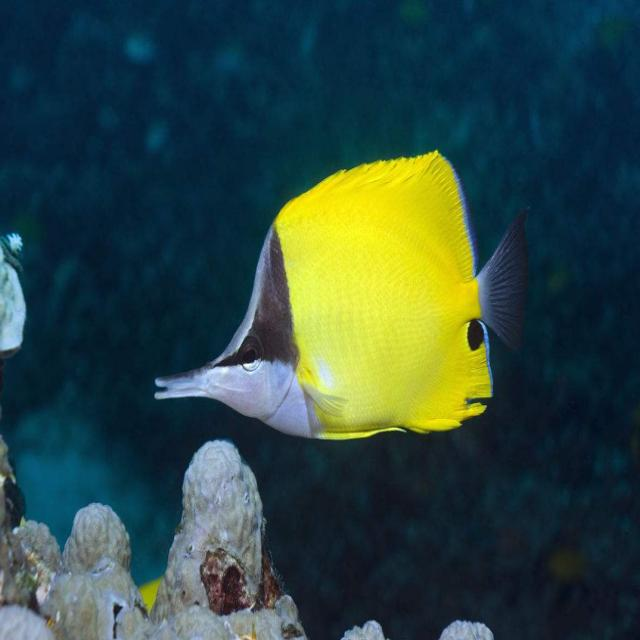ButterflyFish: (155, 156, 528, 477)
